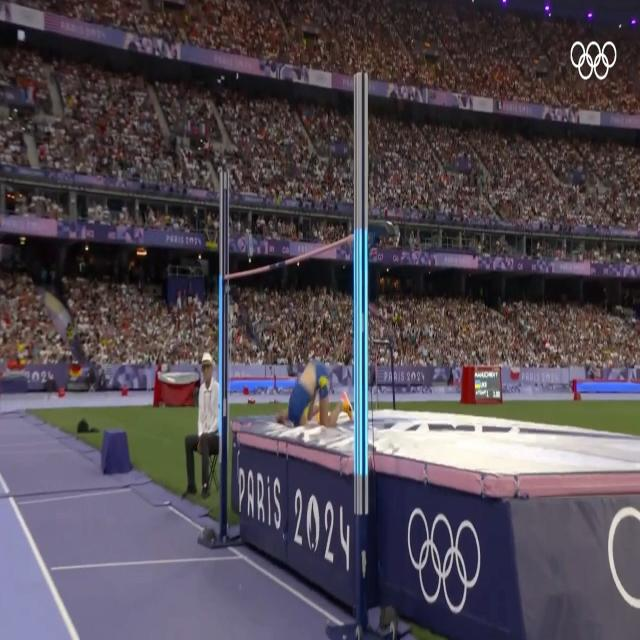land: (272, 358, 354, 431)
